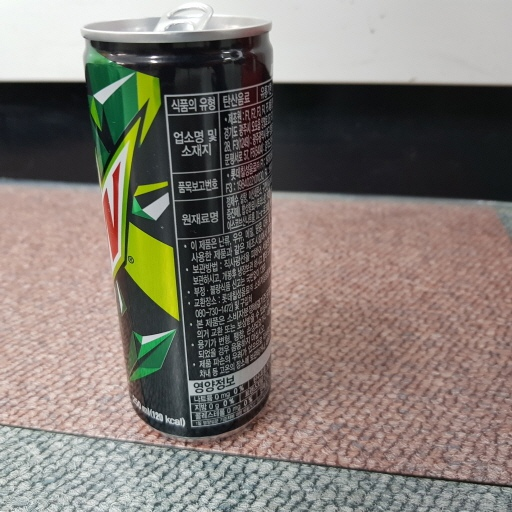Metal_0: (79, 4, 281, 439)
